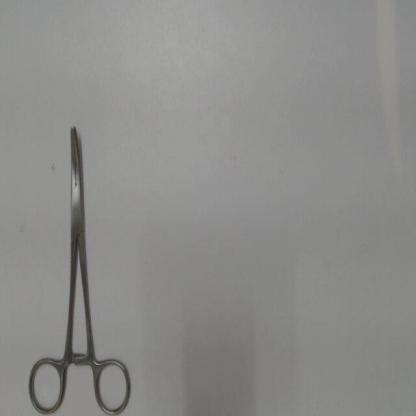Crile Artery Forceps: (24, 120, 137, 415)
